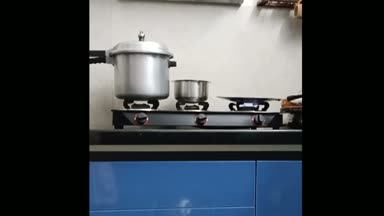flame_gas_off: (119, 98, 162, 124), (178, 100, 214, 128)
flame_gas_on: (233, 101, 270, 126)
